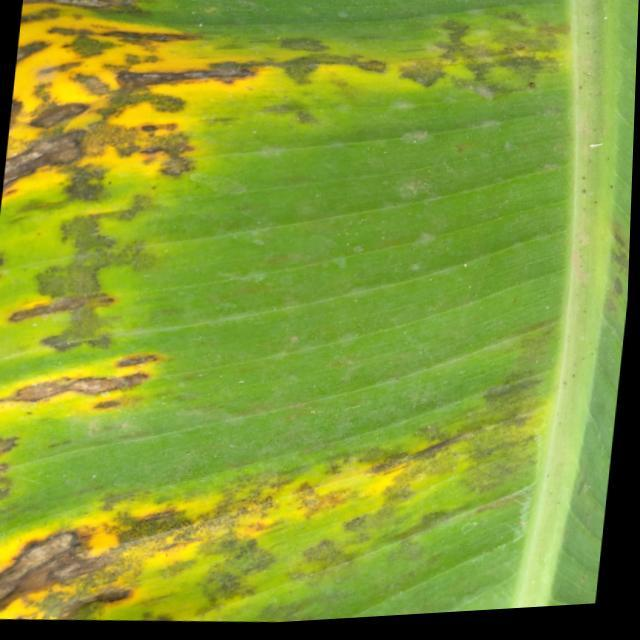Early_rust: (0, 0, 574, 640)
